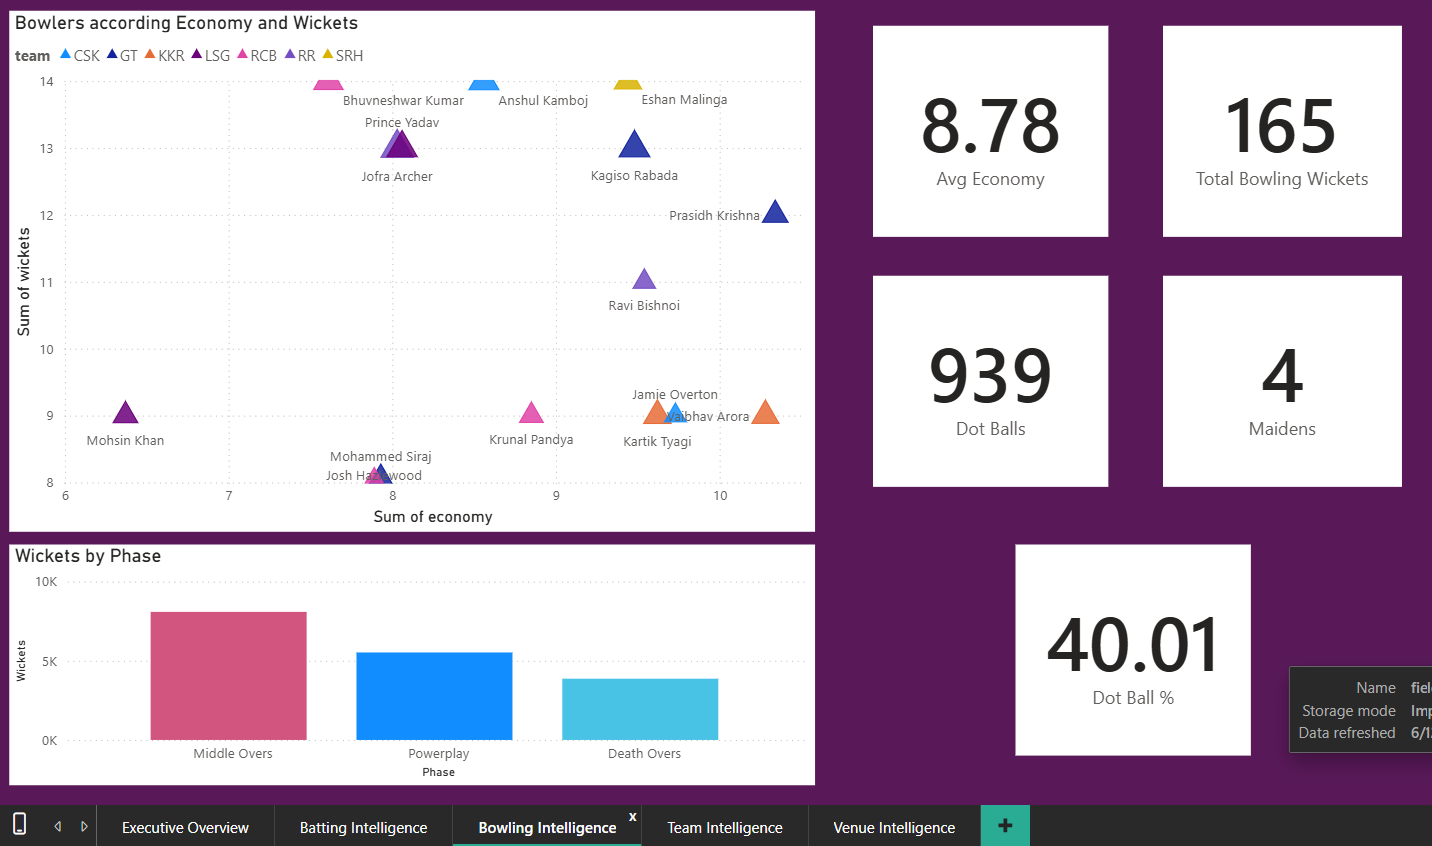

The page's visual inventory and layout, read from the dashboard file:
{"tool":"powerbi","page":{"name":"Bowling Intelligence","canvas":[1280,720],"ordinal":2},"visuals":[{"type":"scatterChart","title":"Bowlers according Economy and Wickets","fields":{"X":["Sum(bowling_stats.economy)"],"Y":["Sum(bowling_stats.wickets)"],"Size":["Sum(bowling_stats.dot_balls)"],"Category":["bowling_stats.bowler"],"Series":["bowling_stats.team"]},"box":[9.6,11,717.7,447.3],"z":0},{"type":"columnChart","fields":{"Y":["New Measures.Wickets"],"Category":["deliveries.Phase"]},"box":[9.6,487.1,717.7,214.1],"z":1000},{"type":"card","fields":{"Values":["New Measures.Avg Economy"]},"box":[779.4,26.1,209.9,188],"z":2000},{"type":"card","fields":{"Values":["New Measures.Dot Balls"]},"box":[779.4,248.4,209.9,188],"z":3000},{"type":"card","fields":{"Values":["New Measures.Dot Ball %"]},"box":[905.7,487.1,209.9,188],"z":4000},{"type":"card","fields":{"Values":["New Measures.Total Bowling Wickets"]},"box":[1037.4,26.1,212.7,188],"z":5000},{"type":"card","fields":{"Values":["New Measures.Maidens"]},"box":[1037.4,248.4,212.7,188],"z":6000}]}

Visuals, with their boxes on the page's 1280x720 design canvas (x1, y1, x2, y2). These are canvas units, not pixel positions in the 1432x846 screenshot, which may show the page scaled, cropped or inside an application window:
"Bowlers according Economy and Wickets" scatterChart: <box>10,11,727,458</box>
columnChart - New Measures.Wickets x deliveries.Phase: <box>10,487,727,701</box>
card - New Measures.Avg Economy: <box>779,26,989,214</box>
card - New Measures.Dot Balls: <box>779,248,989,436</box>
card - New Measures.Dot Ball %: <box>906,487,1116,675</box>
card - New Measures.Total Bowling Wickets: <box>1037,26,1250,214</box>
card - New Measures.Maidens: <box>1037,248,1250,436</box>
